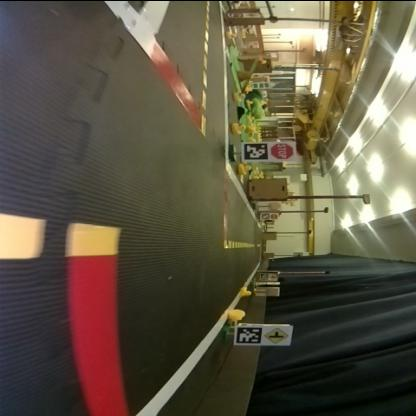Duckie: (230, 308, 247, 319), (232, 122, 247, 132), (240, 162, 251, 174), (234, 91, 245, 101), (240, 286, 252, 295), (226, 30, 238, 38)
Intersection sign: (264, 324, 292, 344)
QR code: (244, 141, 268, 159), (238, 326, 263, 342), (262, 212, 270, 218), (261, 272, 269, 278)
Stop sign: (270, 142, 294, 158), (271, 212, 279, 218)
